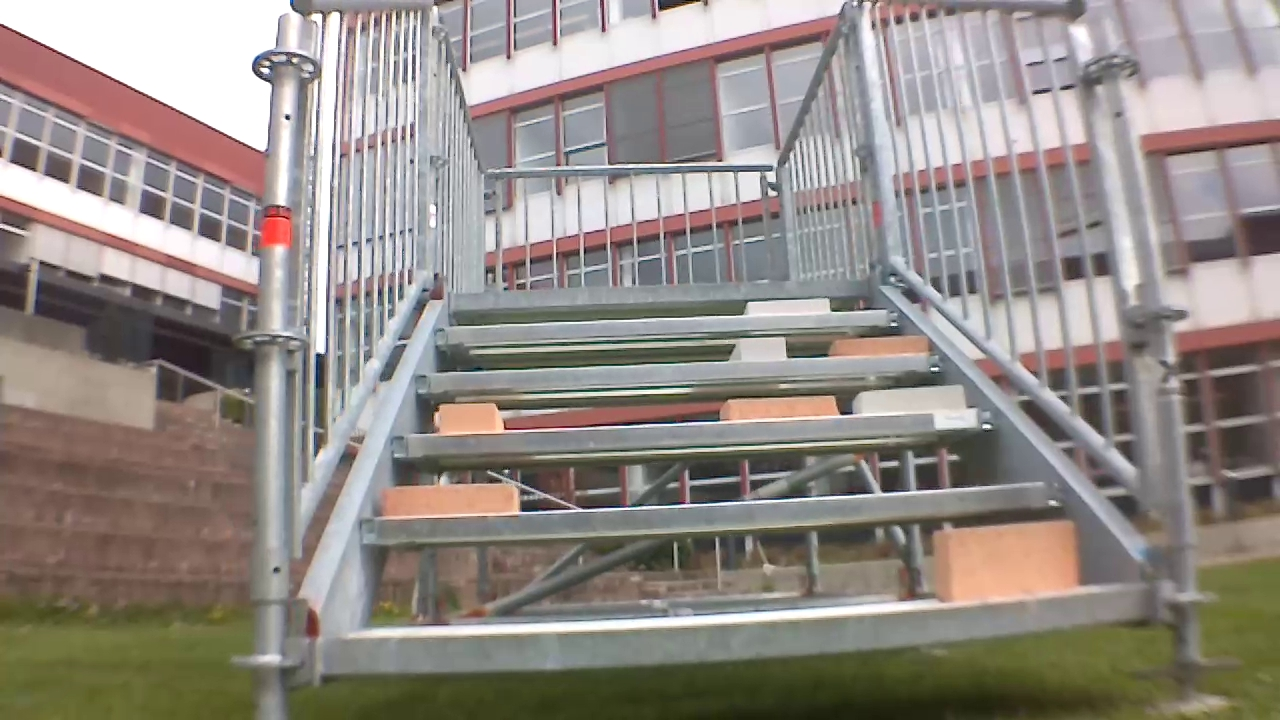brick: (931, 513, 1085, 604), (385, 484, 521, 517), (711, 392, 840, 425), (861, 382, 966, 413), (830, 330, 938, 358), (431, 403, 507, 435), (744, 294, 834, 314), (732, 336, 790, 361)
edge: (308, 585, 1164, 684), (358, 479, 1071, 548), (388, 408, 1003, 457), (426, 314, 912, 344), (413, 353, 949, 372), (446, 278, 874, 300)
stairs: (265, 0, 1202, 719)
steps: (306, 280, 1147, 679)
